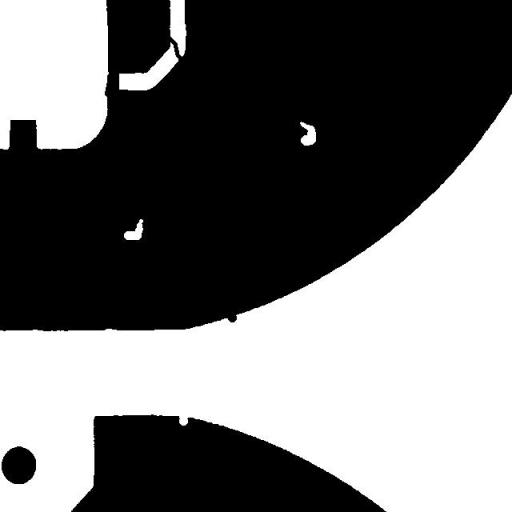mousebite: (171, 404, 195, 433)
pin-hole: (116, 211, 150, 247), (292, 114, 323, 152)
short: (160, 29, 193, 72), (97, 60, 126, 106)
spur: (220, 306, 244, 330)
